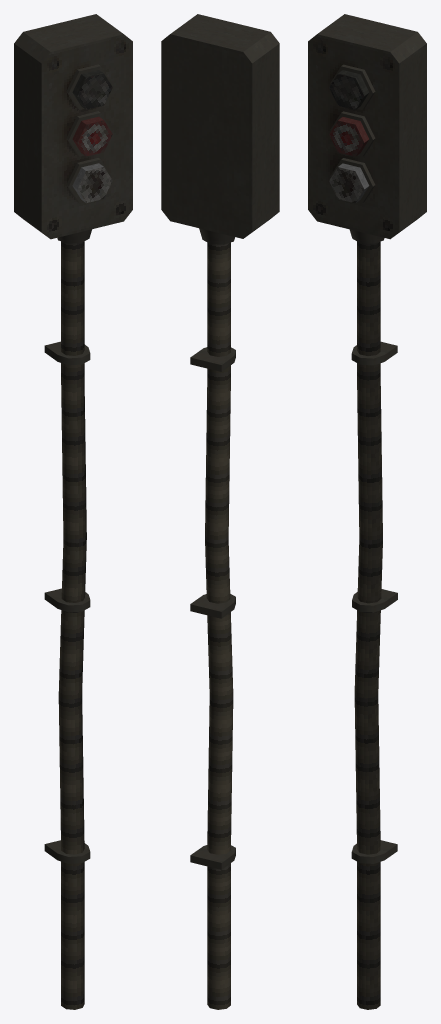
Rendered from button_12.glb.
3 views of the same model, side by side, from view 1: azimuth 30°, elevation 25°; view 2: azimuth 150°, elevation 25°; view 3: azimuth 330°, elevation 25° (orthographic).
Parts seen in each view (by area): view 1: button_12; view 2: button_12; view 3: button_12.
Boxes of the visible parts, left/top/right/bottom form: button_12: left=14, top=14, right=132, bottom=1009; button_12: left=161, top=14, right=279, bottom=1009; button_12: left=308, top=14, right=426, bottom=1009.
Size of the model in its own units: 0.11 by 1.12 by 0.0732.
Materials: 2 (2 with a texture image).
